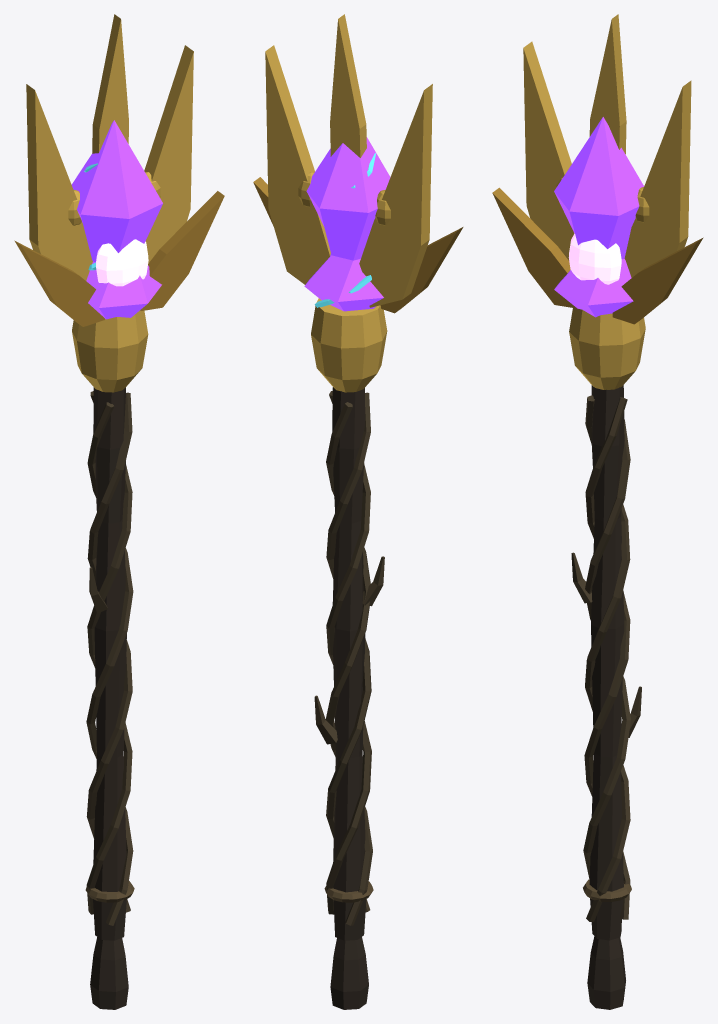
File: staff_gildamethyst.glb
3 views of the same model, side by side, from view 1: azimuth 30°, elevation 25°; view 2: azimuth 150°, elevation 25°; view 3: azimuth 330°, elevation 25° (orthographic).
Parts seen in each view (by area): view 1: Ga_Shaft, Ga_Gem_Up, Ga_Lobe0, Ga_Lobe1, Ga_Cup, Ga_LobeS1, Ga_Twist0, Ga_Twist2, Ga_Twist1, Ga_Tip, Ga_LobeS0, Ga_Butt (+3 smaller); view 2: Ga_Shaft, Ga_Lobe0, Ga_Lobe1, Ga_Gem_Up, Ga_Cup, Ga_Tip, Ga_Twist0, Ga_Twist2, Ga_Twist1, Ga_Gem_Dn, Ga_Butt, Ga_LobeS0 (+3 smaller); view 3: Ga_Shaft, Ga_Gem_Up, Ga_Lobe1, Ga_Lobe0, Ga_Cup, Ga_LobeS0, Ga_Twist2, Ga_Twist0, Ga_Twist1, Ga_LobeS1, Ga_Tip, Ga_Butt (+3 smaller).
Boxes of the visible parts, left/top/right/bottom form: Ga_Shaft: left=93, top=387, right=126, bottom=940; Ga_Gem_Up: left=71, top=120, right=162, bottom=262; Ga_Lobe0: left=26, top=84, right=92, bottom=280; Ga_Lobe1: left=144, top=45, right=193, bottom=263; Ga_Cup: left=72, top=310, right=148, bottom=392; Ga_LobeS1: left=140, top=191, right=224, bottom=310; Ga_Twist0: left=86, top=392, right=132, bottom=912; Ga_Twist2: left=86, top=402, right=133, bottom=925; Ga_Twist1: left=86, top=391, right=132, bottom=914; Ga_Tip: left=92, top=14, right=128, bottom=153; Ga_LobeS0: left=14, top=240, right=104, bottom=326; Ga_Butt: left=90, top=937, right=128, bottom=1009; Ga_Shaft: left=332, top=387, right=366, bottom=940; Ga_Lobe0: left=359, top=84, right=432, bottom=307; Ga_Lobe1: left=265, top=45, right=330, bottom=284; Ga_Gem_Up: left=306, top=137, right=390, bottom=260; Ga_Cup: left=311, top=298, right=387, bottom=392; Ga_Tip: left=330, top=14, right=366, bottom=157; Ga_Twist0: left=326, top=391, right=371, bottom=914; Ga_Twist2: left=326, top=392, right=371, bottom=912; Ga_Twist1: left=325, top=402, right=372, bottom=925; Ga_Gem_Dn: left=304, top=254, right=383, bottom=311; Ga_Butt: left=330, top=937, right=368, bottom=1009; Ga_LobeS0: left=380, top=227, right=463, bottom=313; Ga_Shaft: left=589, top=385, right=624, bottom=940; Ga_Gem_Up: left=554, top=117, right=643, bottom=259; Ga_Lobe1: left=624, top=80, right=691, bottom=277; Ga_Lobe0: left=523, top=41, right=574, bottom=260; Ga_Cup: left=569, top=308, right=645, bottom=389; Ga_LobeS0: left=492, top=187, right=576, bottom=308; Ga_Twist2: left=585, top=395, right=630, bottom=921; Ga_Twist0: left=584, top=397, right=630, bottom=919; Ga_Twist1: left=583, top=419, right=630, bottom=878; Ga_LobeS1: left=612, top=237, right=703, bottom=324; Ga_Tip: left=589, top=14, right=626, bottom=154; Ga_Butt: left=587, top=936, right=625, bottom=1009.
Bounding box in the file's own units: 0.5625 × 2.6 × 0.2345.
